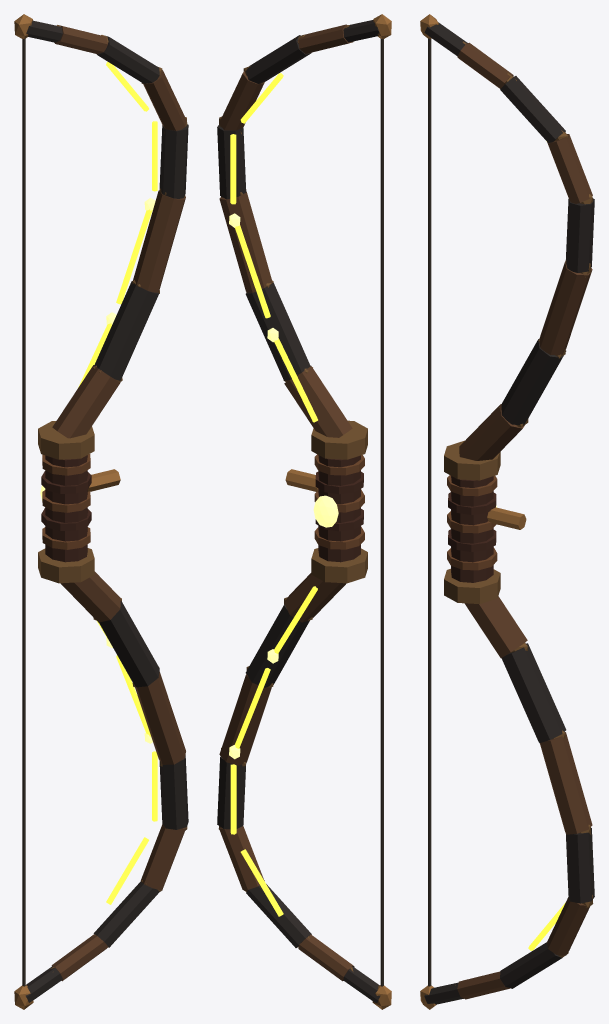
File: Stormfire.fbx
The picture shows the model from 3 angles, left to right: view 1: azimuth 30°, elevation 25°; view 2: azimuth 150°, elevation 25°; view 3: azimuth 330°, elevation 25°; orthographic projection.
Parts seen in each view (by area): view 1: Upper_Segment_01, Upper_Segment_02, Rounded_Grip, Lower_Segment_02, Upper_Segment_00, Lower_Segment_01, Bow_String_Lower, Bow_String_Upper, Upper_Segment_03, Lower_Segment_03, Lower_Segment_00, Lower_Segment_05 (+20 smaller); view 2: Upper_Segment_01, Rounded_Grip, Upper_Segment_02, Upper_Segment_00, Lower_Segment_02, Lower_Segment_01, Bow_String_Lower, Bow_String_Upper, Upper_Segment_03, Grip_Collar_Upper, Lower_Segment_03, Lower_Segment_00 (+21 smaller); view 3: Lower_Segment_01, Lower_Segment_02, Rounded_Grip, Upper_Segment_02, Upper_Segment_01, Lower_Segment_00, Bow_String_Lower, Bow_String_Upper, Lower_Segment_03, Upper_Segment_03, Upper_Segment_00, Upper_Segment_05 (+15 smaller).
Boxes of the visible parts, <box> form: Upper_Segment_01: <box>94,281,159,380</box>; Upper_Segment_02: <box>133,190,185,292</box>; Rounded_Grip: <box>45,455,87,562</box>; Lower_Segment_02: <box>135,671,185,764</box>; Upper_Segment_00: <box>52,365,120,438</box>; Lower_Segment_01: <box>99,601,159,687</box>; Bow_String_Lower: <box>22,512,25,986</box>; Bow_String_Upper: <box>22,38,25,512</box>; Upper_Segment_03: <box>159,124,188,198</box>; Lower_Segment_03: <box>159,755,188,829</box>; Lower_Segment_00: <box>60,571,120,622</box>; Lower_Segment_05: <box>93,881,159,947</box>; Upper_Segment_01: <box>245,282,310,380</box>; Rounded_Grip: <box>318,455,360,562</box>; Upper_Segment_02: <box>219,191,272,292</box>; Upper_Segment_00: <box>284,366,352,437</box>; Lower_Segment_02: <box>219,674,271,765</box>; Lower_Segment_01: <box>245,604,309,687</box>; Bow_String_Lower: <box>380,512,383,986</box>; Bow_String_Upper: <box>380,38,383,512</box>; Upper_Segment_03: <box>217,125,246,199</box>; Grip_Collar_Upper: <box>311,420,367,459</box>; Lower_Segment_03: <box>217,756,246,829</box>; Lower_Segment_00: <box>284,573,346,622</box>; Lower_Segment_01: <box>501,643,566,743</box>; Lower_Segment_02: <box>540,732,592,834</box>; Rounded_Grip: <box>451,476,493,582</box>; Upper_Segment_02: <box>539,261,592,355</box>; Upper_Segment_01: <box>501,339,566,425</box>; Lower_Segment_00: <box>464,596,527,658</box>; Bow_String_Lower: <box>428,512,431,986</box>; Bow_String_Upper: <box>428,38,431,512</box>; Lower_Segment_03: <box>566,828,594,903</box>; Upper_Segment_03: <box>565,198,594,272</box>; Upper_Segment_00: <box>459,404,524,460</box>; Upper_Segment_05: <box>500,76,565,142</box>.
Size of the model in its own units: 29.15 by 161 by 9.6.
